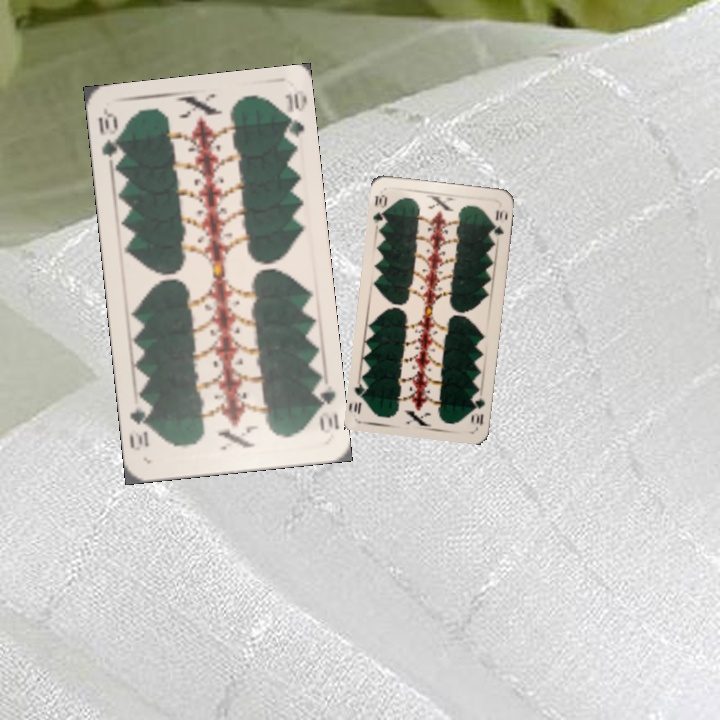G10: (94, 109, 125, 168), (309, 378, 341, 434), (369, 190, 390, 229), (468, 394, 487, 428)
